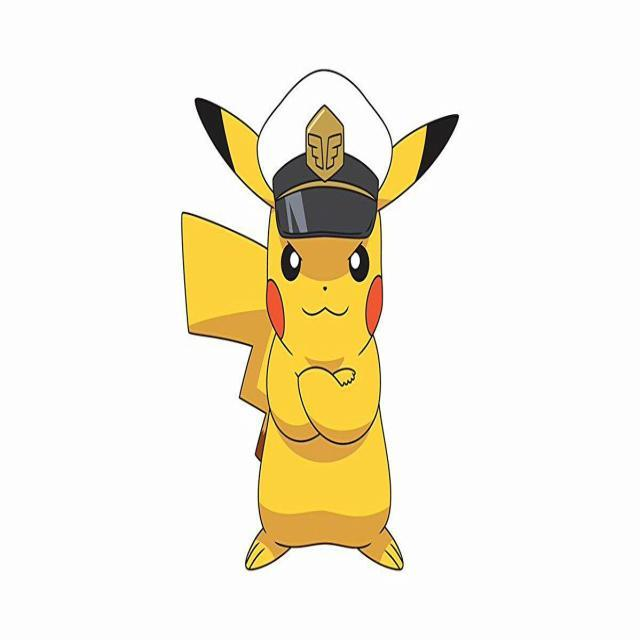Pikachu: (148, 3, 511, 640)
